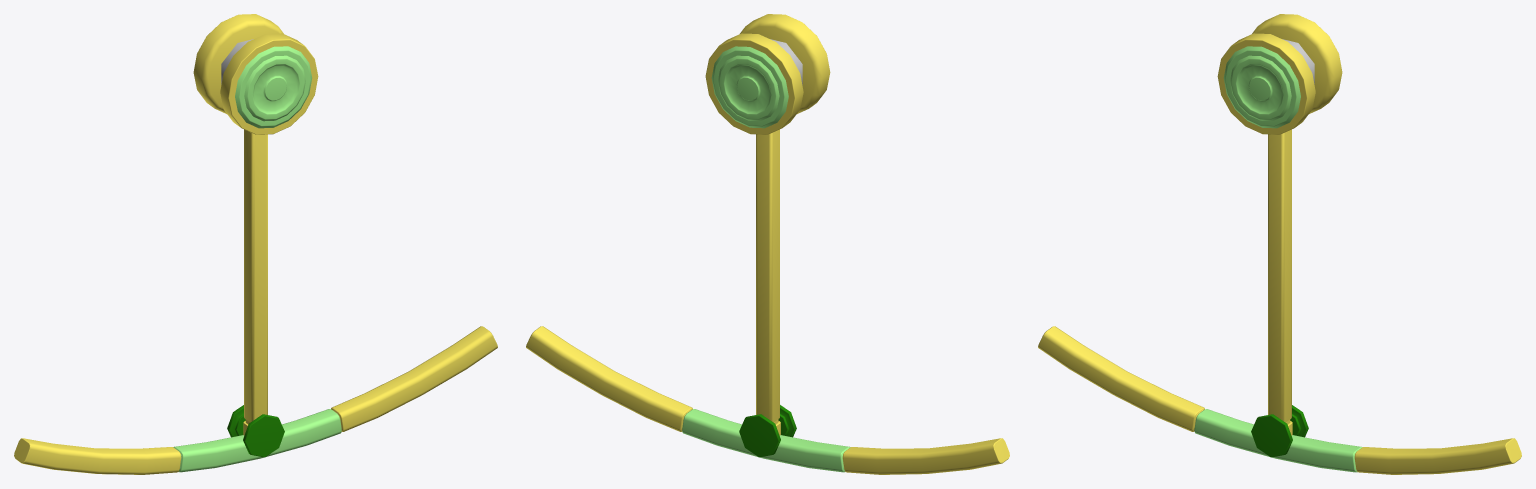
Rendered from MEC0110031.fbx.
The picture shows the model from 3 angles, left to right: view 1: azimuth 30°, elevation 25°; view 2: azimuth 150°, elevation 25°; view 3: azimuth 330°, elevation 25°; orthographic projection.
Visible parts, largest first — view 1: smMEC0110031; view 2: smMEC0110031; view 3: smMEC0110031.
Part boxes in pixels (x1,y1,x2,y2): smMEC0110031: (14, 14, 497, 474); smMEC0110031: (526, 14, 1009, 474); smMEC0110031: (1038, 14, 1521, 474).
Bounding box in the file's own units: 584 × 504 × 86.77.
1 material, 1 textured.
